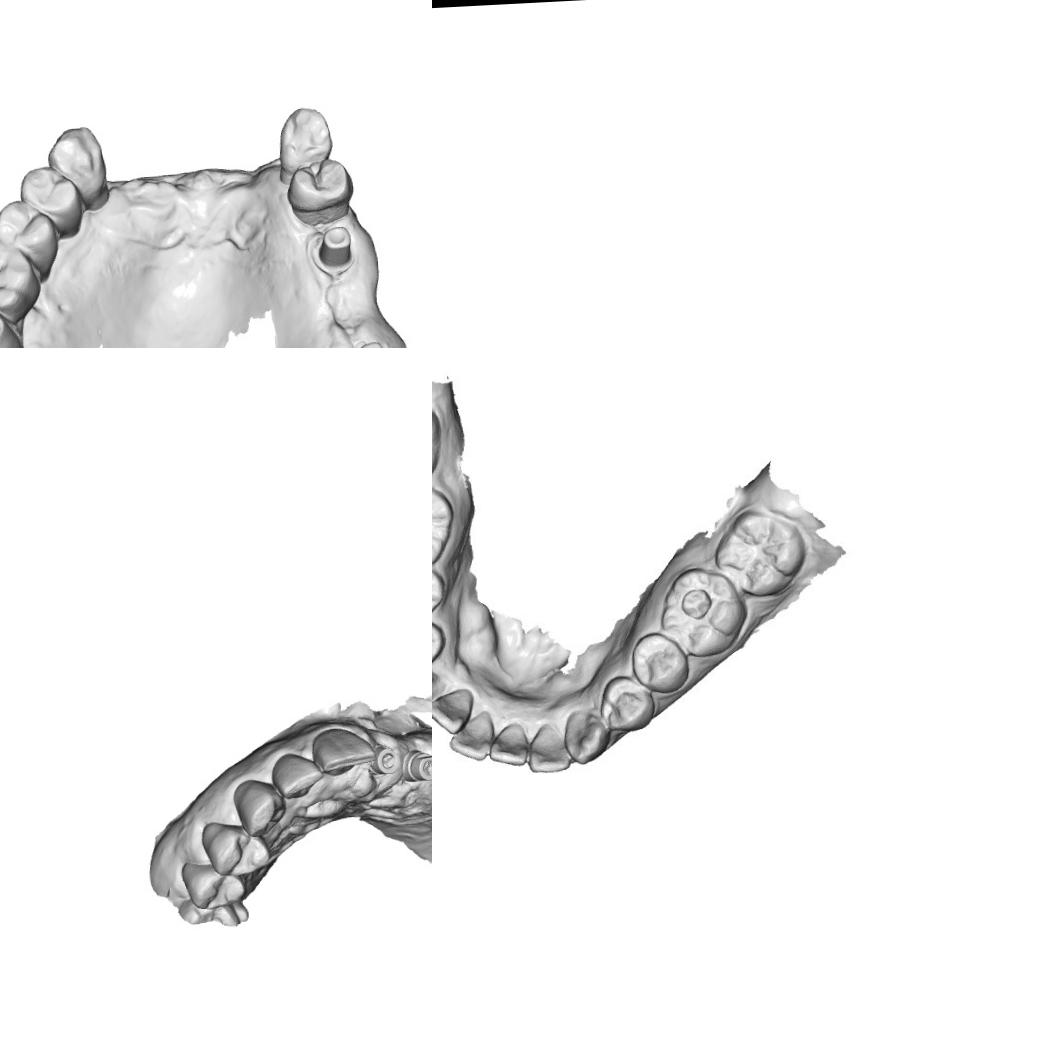abutment: (308, 222, 357, 278)
canine: (44, 124, 108, 205), (228, 774, 290, 840), (274, 104, 334, 171), (560, 708, 608, 766), (432, 671, 444, 721)
implant: (365, 740, 403, 778), (398, 743, 432, 784)
incisor: (307, 724, 378, 778), (269, 748, 326, 800), (443, 710, 494, 760), (526, 724, 572, 772), (486, 717, 530, 764), (432, 685, 471, 731)
molar: (716, 508, 800, 590), (664, 568, 741, 654), (0, 232, 41, 323), (432, 480, 455, 566)
premolar: (16, 164, 84, 234), (282, 156, 356, 220), (198, 818, 273, 878), (174, 857, 250, 914), (0, 196, 58, 261), (595, 674, 657, 734), (631, 632, 686, 691), (432, 568, 445, 625), (432, 619, 446, 670)
